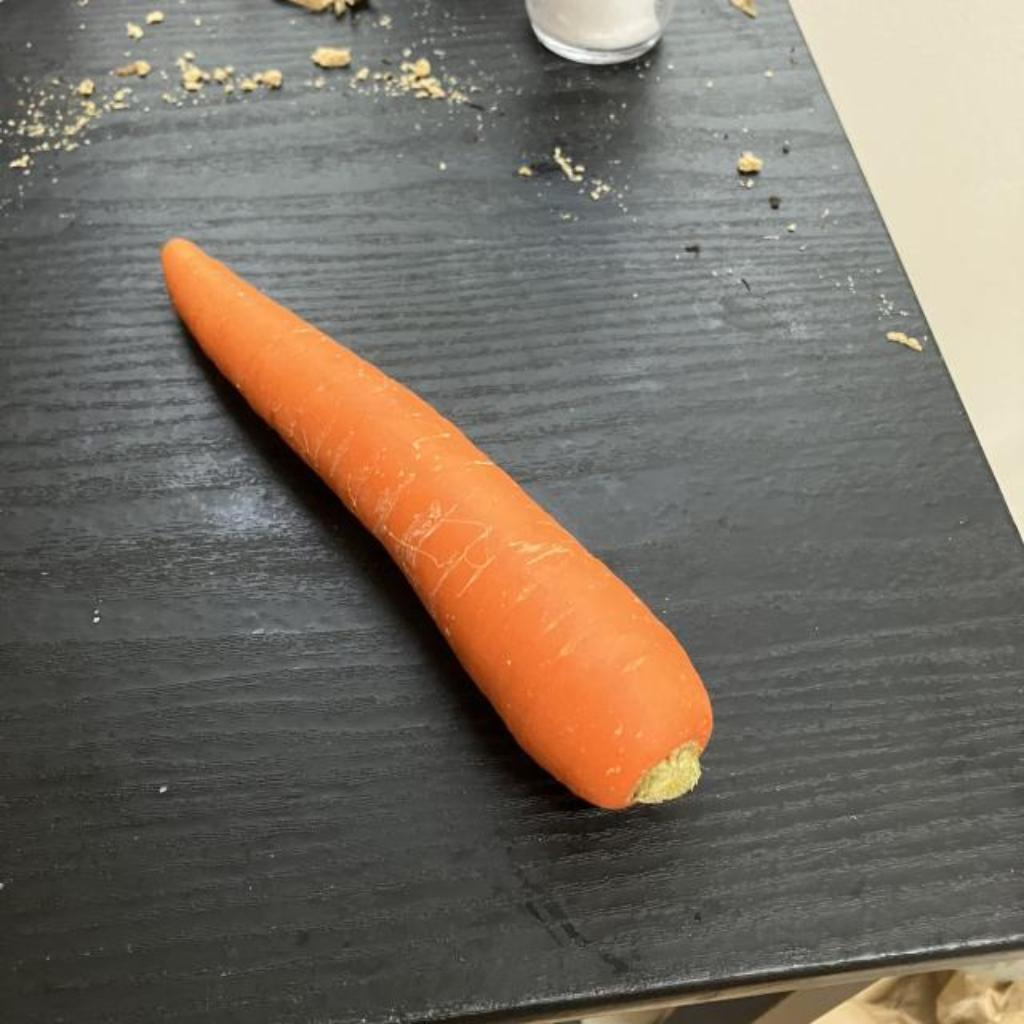carrot: (162, 240, 712, 808)
